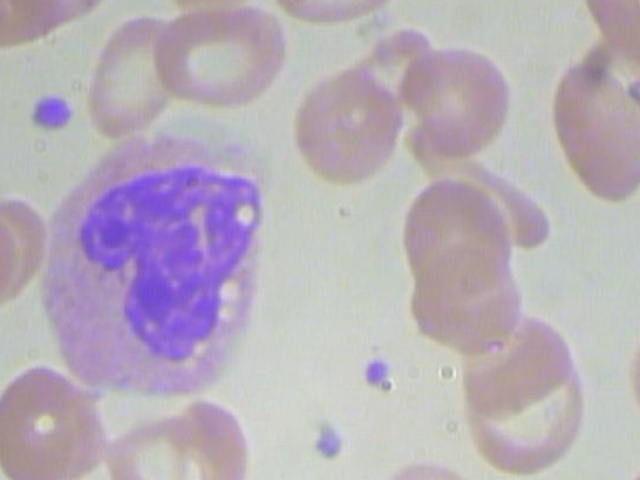Platelets: (29, 86, 80, 137), (303, 420, 347, 468), (352, 354, 398, 393)
RBC: (457, 350, 594, 478), (144, 0, 290, 113), (538, 55, 640, 213), (390, 40, 517, 158), (402, 234, 529, 352), (396, 176, 523, 294), (74, 9, 186, 140), (292, 60, 405, 187), (0, 355, 110, 480), (159, 390, 271, 480), (365, 439, 493, 480)
WBC: (16, 129, 285, 412)
